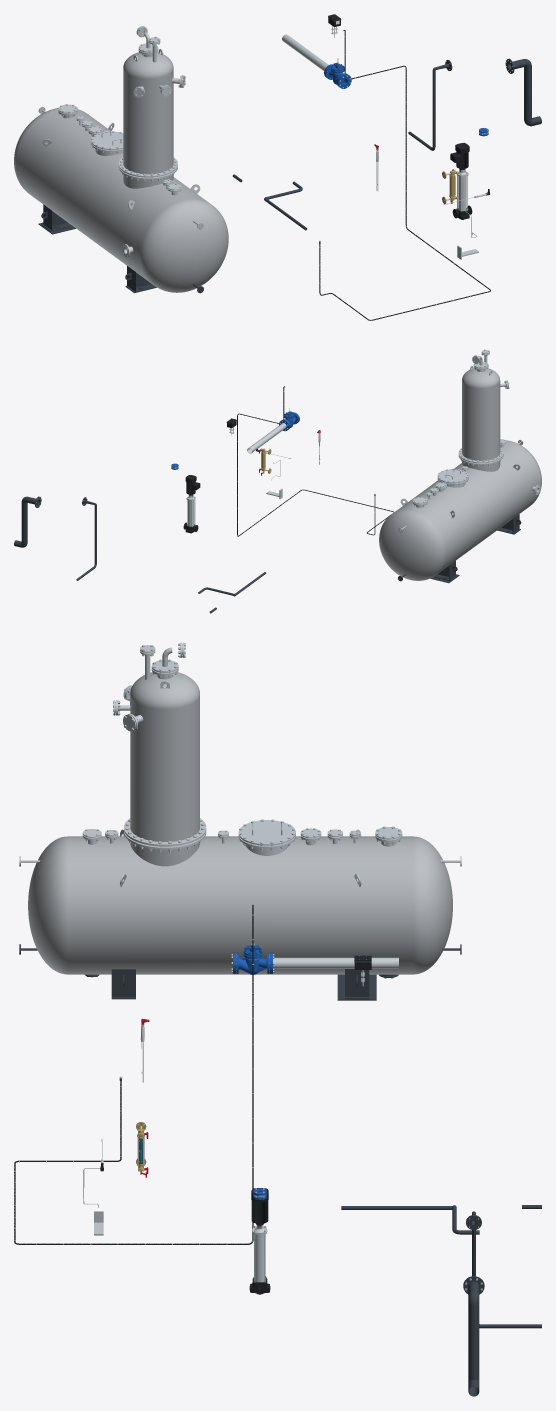
Rendered from s4000-1-BQEpcepa.glb.
The picture shows the model from 3 angles, top to bottom: view 1: azimuth 30°, elevation 25°; view 2: azimuth 150°, elevation 25°; view 3: azimuth 270°, elevation 25°; orthographic projection. The views are drawn at different scales.
Visible parts, largest first — view 1: deaerator CAD solid 56, deaerator CAD solid 257, gpz_drive_cable / black, bdv_water_drain / dark, bottom_to_bdv / dark, deaerator CAD solid 408, steam_delivery / steel, pump_1 CAD solid 15; view 2: deaerator CAD solid 56, deaerator CAD solid 257, gpz_drive_cable / black, bdv_water_drain / dark, deaerator CAD solid 408; view 3: deaerator CAD solid 56, deaerator CAD solid 257, gpz_drive_cable / black, bdv_water_drain / dark, steam_delivery / steel, deaerator CAD solid 408.
Boxes of the visible parts, bbox=[...] form: deaerator CAD solid 56: bbox=[14, 108, 228, 292]; deaerator CAD solid 257: bbox=[123, 52, 173, 174]; gpz_drive_cable / black: bbox=[319, 30, 490, 320]; bdv_water_drain / dark: bbox=[505, 58, 541, 126]; bottom_to_bdv / dark: bbox=[408, 60, 452, 150]; deaerator CAD solid 408: bbox=[91, 131, 123, 149]; steam_delivery / steel: bbox=[282, 34, 328, 70]; pump_1 CAD solid 15: bbox=[450, 142, 469, 169]; deaerator CAD solid 56: bbox=[379, 440, 541, 580]; deaerator CAD solid 257: bbox=[462, 368, 500, 460]; gpz_drive_cable / black: bbox=[237, 386, 393, 536]; bdv_water_drain / dark: bbox=[14, 496, 41, 547]; deaerator CAD solid 408: bbox=[437, 469, 468, 483]; deaerator CAD solid 56: bbox=[28, 836, 452, 974]; deaerator CAD solid 257: bbox=[130, 672, 199, 841]; gpz_drive_cable / black: bbox=[14, 905, 253, 1244]; bdv_water_drain / dark: bbox=[463, 1276, 484, 1396]; steam_delivery / steel: bbox=[273, 957, 398, 968]; deaerator CAD solid 408: bbox=[238, 820, 295, 845].
Bounding box in the file's own units: 9.11 × 4.73 × 5.43.
